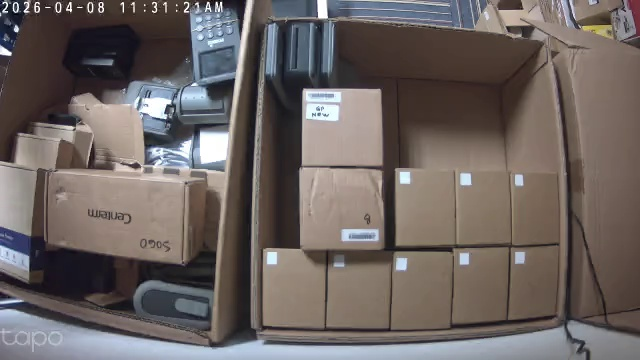box: (298, 166, 384, 250), (300, 87, 383, 167), (325, 250, 392, 330), (261, 247, 326, 329), (393, 167, 456, 248), (390, 250, 452, 330), (451, 246, 509, 327), (455, 169, 511, 246), (507, 244, 559, 321), (509, 170, 560, 246)
